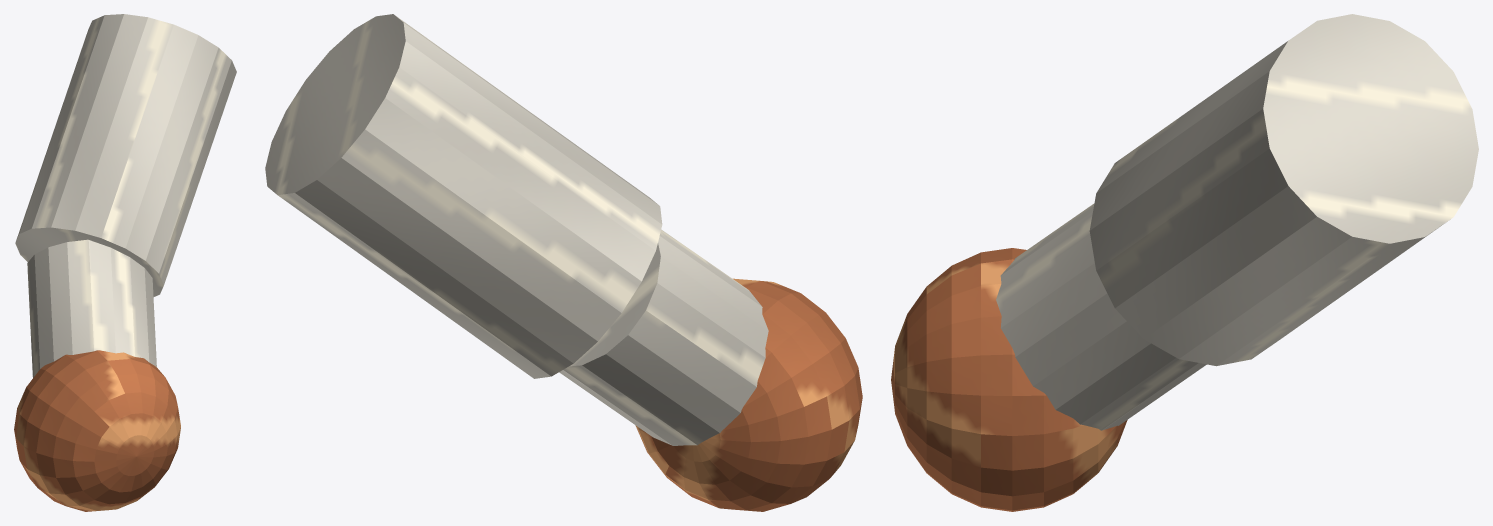
File: brazo_izquierdo.obj
3 renders of one model, left to right at view 1: azimuth 30°, elevation 25°; view 2: azimuth 150°, elevation 25°; view 3: azimuth 270°, elevation 25°, orthographic. The views are drawn at different scales.
Visible parts, largest first — view 1: brazo_izquierdo; view 2: brazo_izquierdo; view 3: brazo_izquierdo.
Part boxes in pixels (x1,y1,x2,y2): brazo_izquierdo: (14,14,236,511); brazo_izquierdo: (265,14,862,511); brazo_izquierdo: (891,14,1478,511).
Bounding box in the file's own units: 0.4775 × 0.5652 × 0.5083.
Materials: 2 (2 with a texture image).
